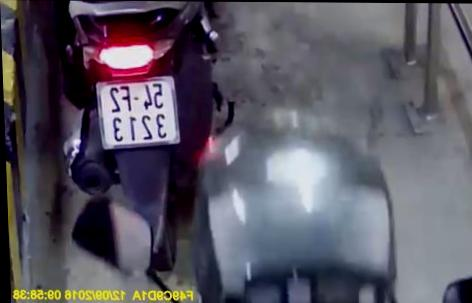License_Plate: (91, 70, 189, 158)
